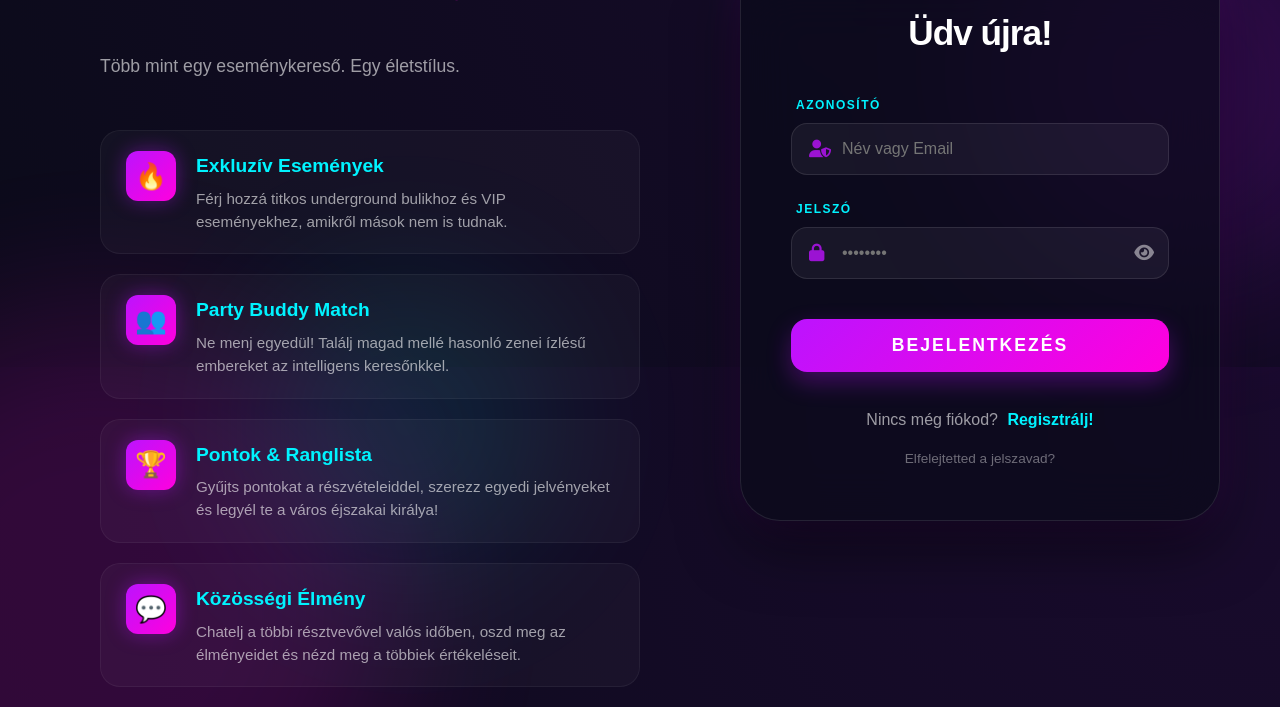
Test: Login Komponens › 2. A váltó feliratra kattintva a Regisztrációs űrlap tölt be
The image size is (1280, 707).
(page scrolled)
Note: Rákeresünk a regisztrációt aktiváló gombra/szövegre
What coordinates should you click on to do the following:
click the text "Regisztrálj!"
I would click on:
 (1051, 420)
Its box is [1007, 411, 1094, 428].
(page scrolled)
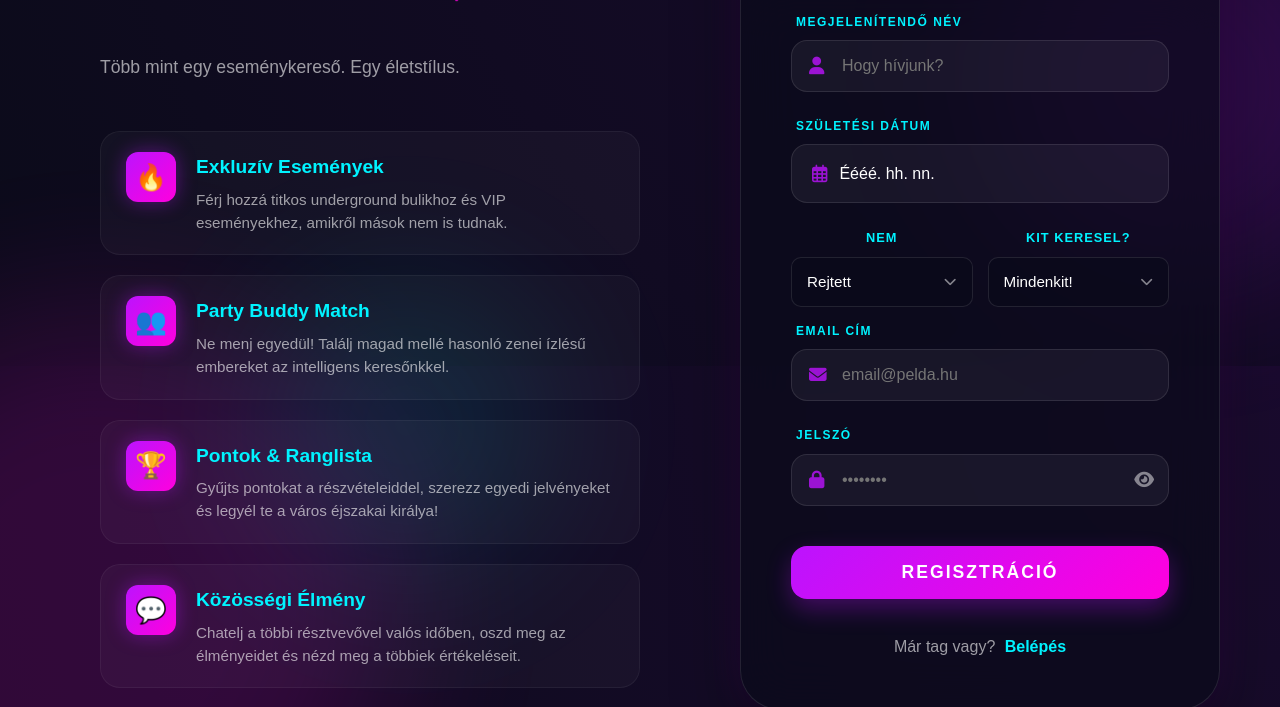
Expected: the button "Regisztráció" is shown, [791, 546, 1169, 599]
